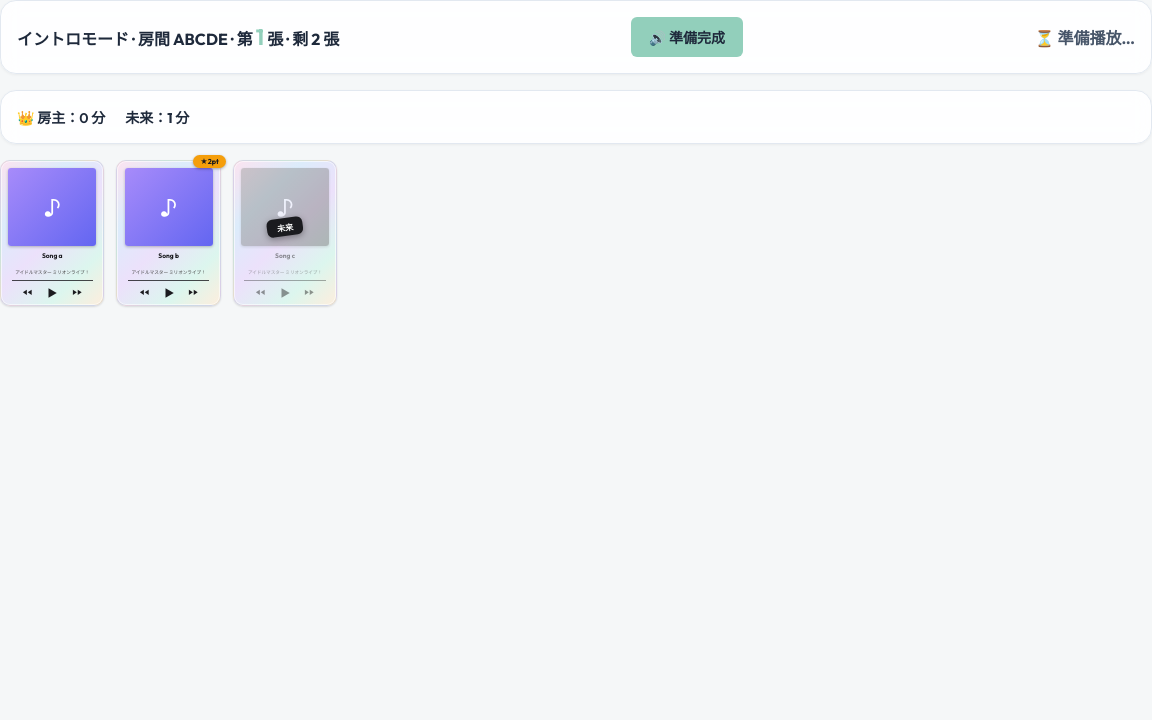
it: IntroGame › 點錯 → お手つき 對話框列出自己的牌 → 丟牌
Click the button "♪ Song a アイドルマスター ミリオンライブ！".
click(52, 233)  # box [0,160,104,306]
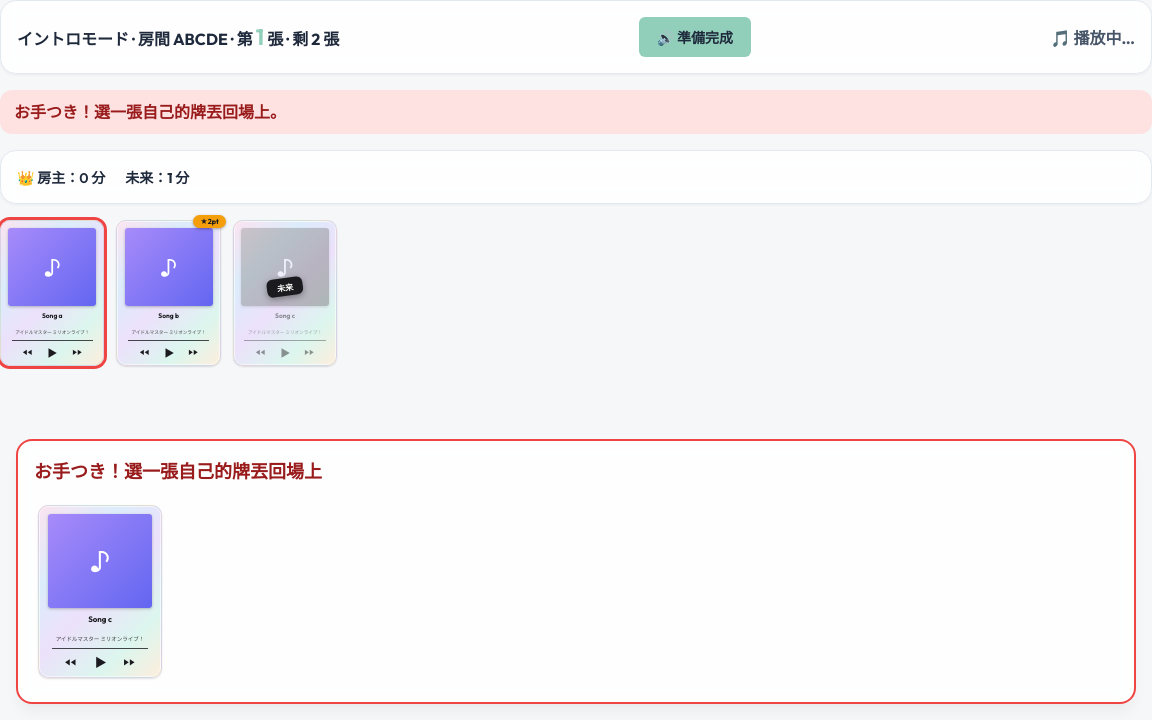
Check: the 2nd text "Song c" is shown, box [88,614,112,624]
Click the button "♪ Song c アイドルマスター ミリオンライブ！".
click(100, 591)  # box [38,505,162,678]
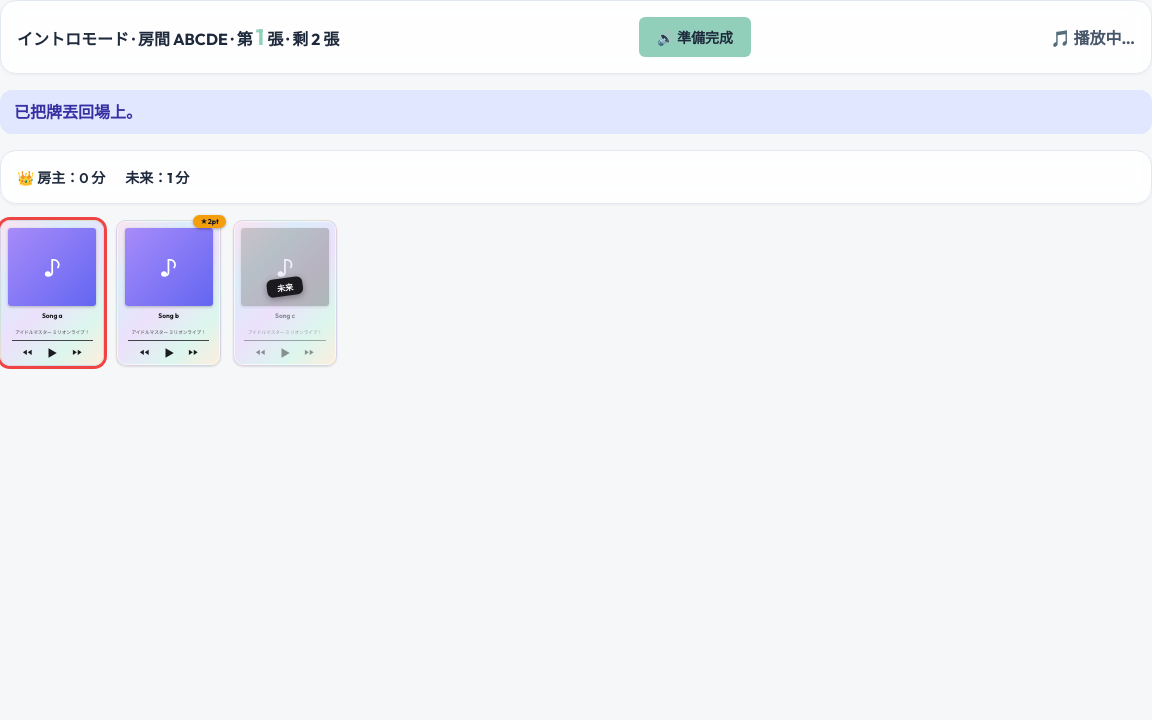
Check: the dialog is gone
